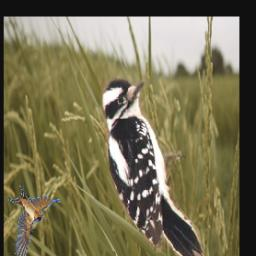Swallow: (7, 186, 61, 256)
Woodpecker: (101, 78, 205, 256)
